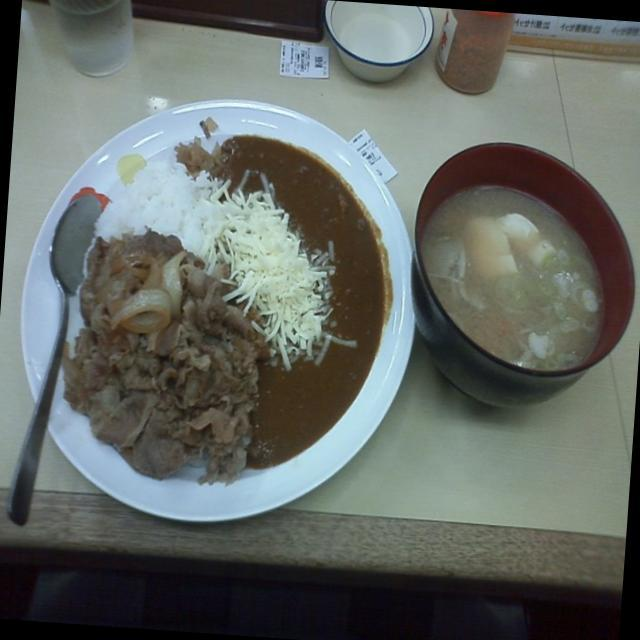Beef Curry: (81, 126, 392, 455)
